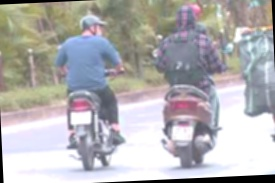Bien-so: (176, 124, 199, 139), (75, 104, 97, 119)
